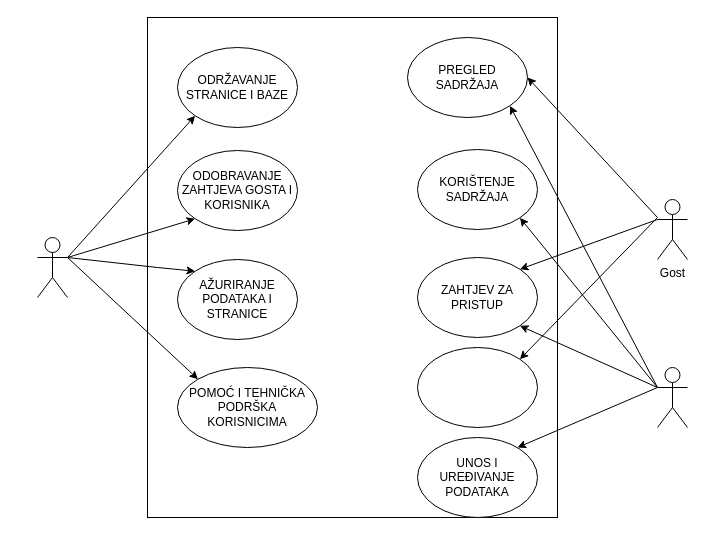
The diagram is 711 pixels wide and 535 high, and some of its shapes have lost their labels. Here are the shapes that lost their labels. From the top down, the centre of each, then its label:
[52,267]: Administrator
[477,387]: REGISTRACIJA
[672,397]: Korisnik
